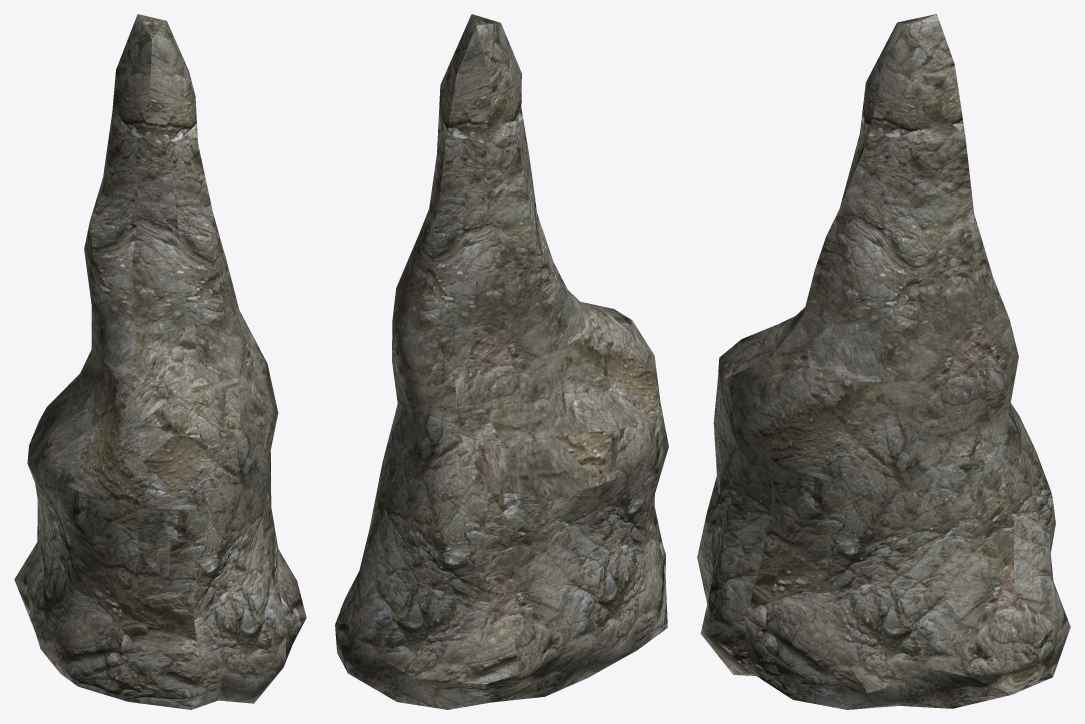
Rendered from Pico03.fbx.
3 renders of one model, left to right at view 1: azimuth 30°, elevation 25°; view 2: azimuth 150°, elevation 25°; view 3: azimuth 270°, elevation 25°, orthographic. The views are drawn at different scales.
Parts seen in each view (by area): view 1: Stalagmite - Short 1; view 2: Stalagmite - Short 1; view 3: Stalagmite - Short 1.
Part boxes in pixels (x1=…): Stalagmite - Short 1: x1=14, y1=14, x2=306, y2=709; Stalagmite - Short 1: x1=335, y1=14, x2=668, y2=709; Stalagmite - Short 1: x1=697, y1=14, x2=1070, y2=709.
Size of the model in its own units: 297 by 722 by 373.
